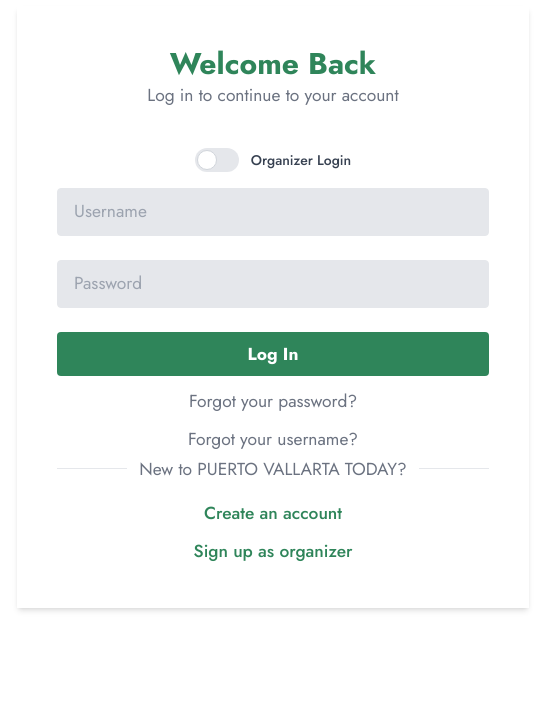
Test case: Login › shows error when username is empty
Type "somepass" into the password field with placeholder "Password" at (273, 284), box [57,260,489,308]
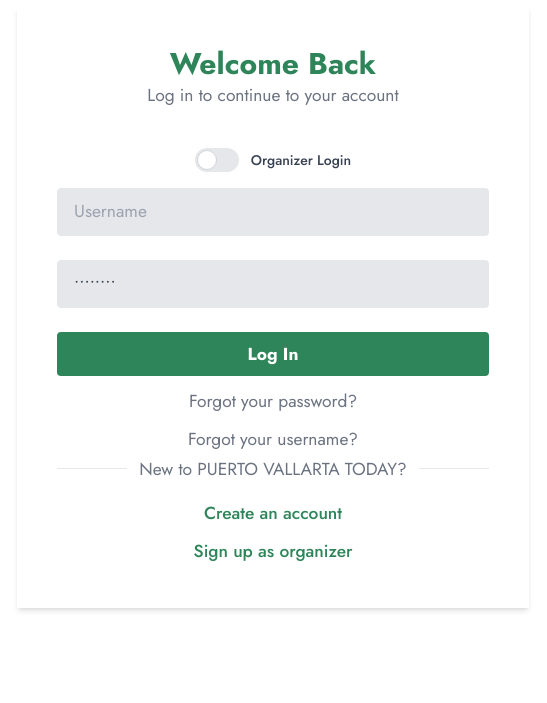
Click the button "Log In" at (273, 354), box [57,332,489,376]
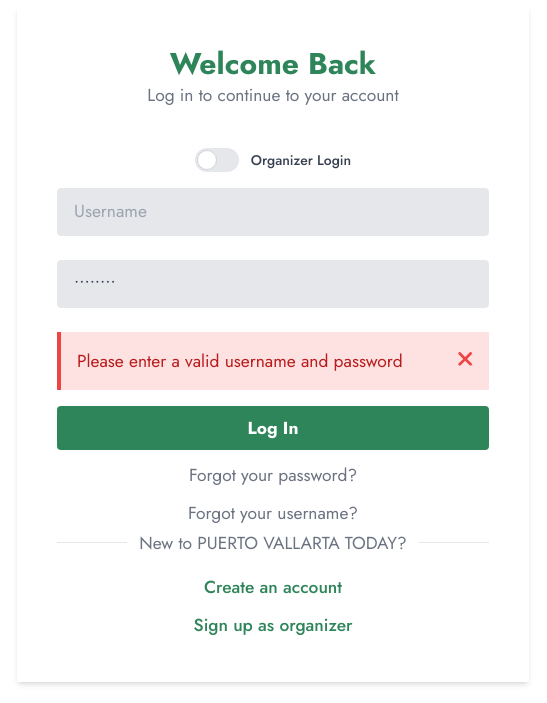
Now the text "Please enter a valid username and password" is shown, box [77,348,403,374]
